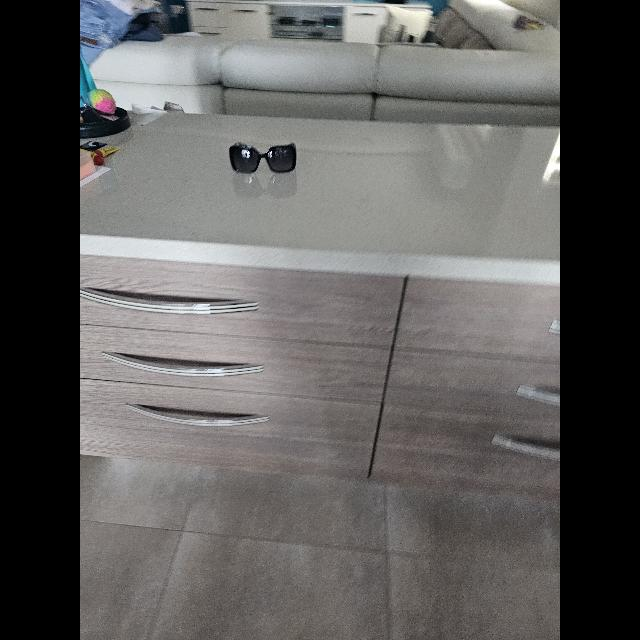Sunglasses: (230, 143, 296, 173)
